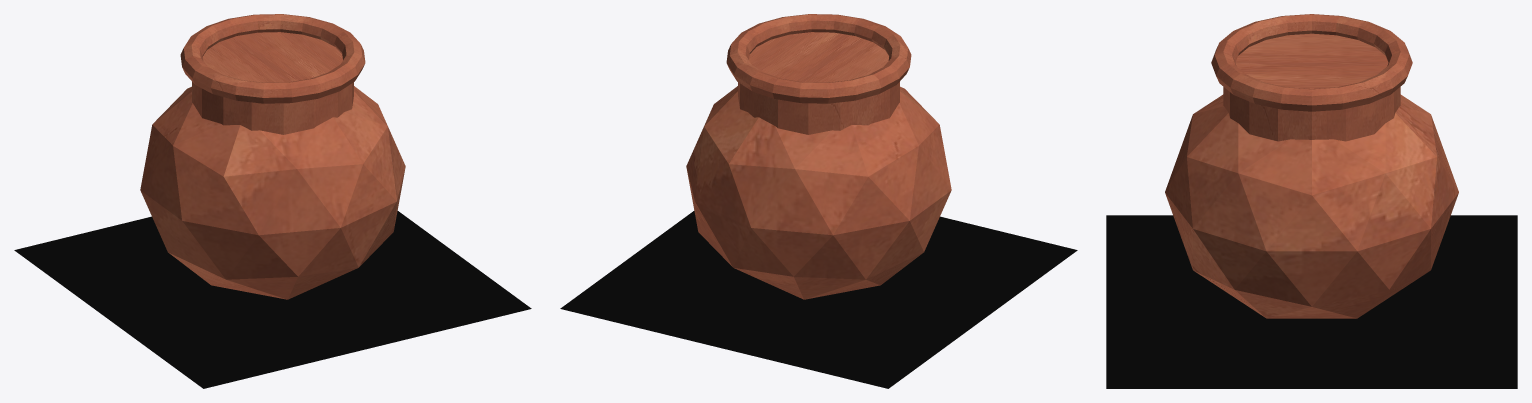
File: pot-large.glb
3 views of the same model, side by side, from view 1: azimuth 30°, elevation 25°; view 2: azimuth 150°, elevation 25°; view 3: azimuth 270°, elevation 25° (orthographic). The views are drawn at different scales.
Parts seen in each view (by area): view 1: ContactShadow, belly, neck, rim; view 2: ContactShadow, belly, neck, rim; view 3: ContactShadow, belly, neck, rim.
Part boxes in pixels (x1,y1,x2,y2): ContactShadow: [14, 211, 531, 388]; belly: [140, 86, 405, 299]; neck: [192, 32, 353, 134]; rim: [180, 14, 365, 103]; ContactShadow: [560, 211, 1077, 388]; belly: [686, 86, 951, 299]; neck: [738, 32, 899, 134]; rim: [726, 14, 911, 103]; ContactShadow: [1106, 215, 1517, 388]; belly: [1165, 94, 1458, 318]; neck: [1223, 33, 1400, 141]; rim: [1211, 14, 1412, 111].
Size of the model in its own units: 0.95 by 0.6572 by 0.95.
3 materials, 2 textured.
